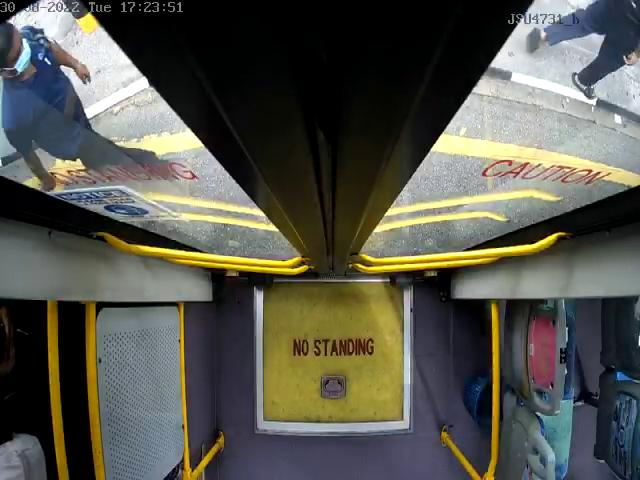close: (0, 0, 640, 92)
